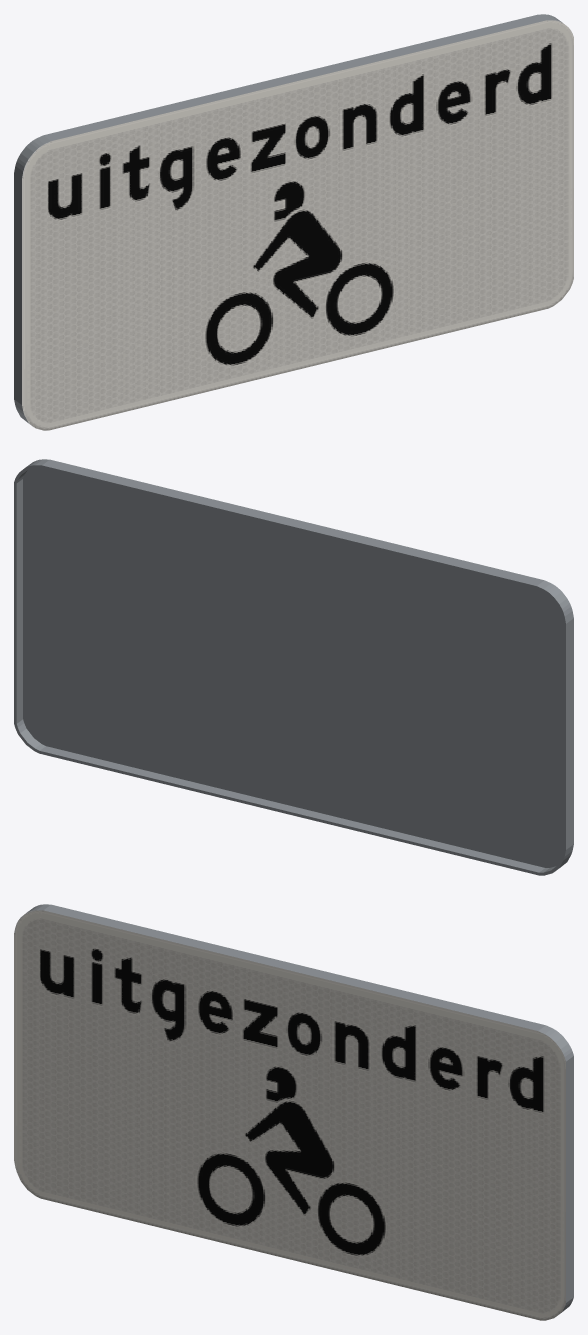
3 views of the same model, one above another, from view 1: azimuth 30°, elevation 25°; view 2: azimuth 150°, elevation 25°; view 3: azimuth 330°, elevation 25° (orthographic).
Parts seen in each view (by area): view 1: cat_fda48944ad958419; view 2: cat_fda48944ad958419; view 3: cat_fda48944ad958419.
Boxes of the visible parts, bbox=[...] form: cat_fda48944ad958419: bbox=[14, 14, 573, 430]; cat_fda48944ad958419: bbox=[14, 459, 573, 875]; cat_fda48944ad958419: bbox=[14, 904, 573, 1320].
Size of the model in its own units: 0.6 by 0.015 by 0.3.
2 materials, 1 textured.
